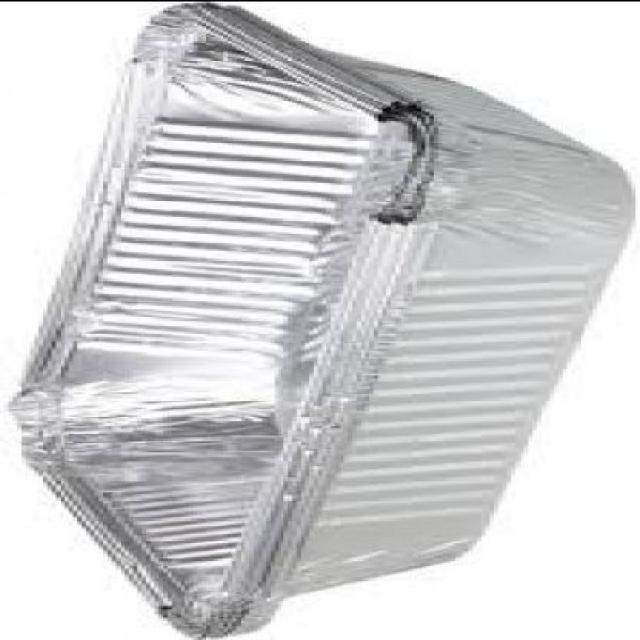metal: (8, 1, 628, 638)
